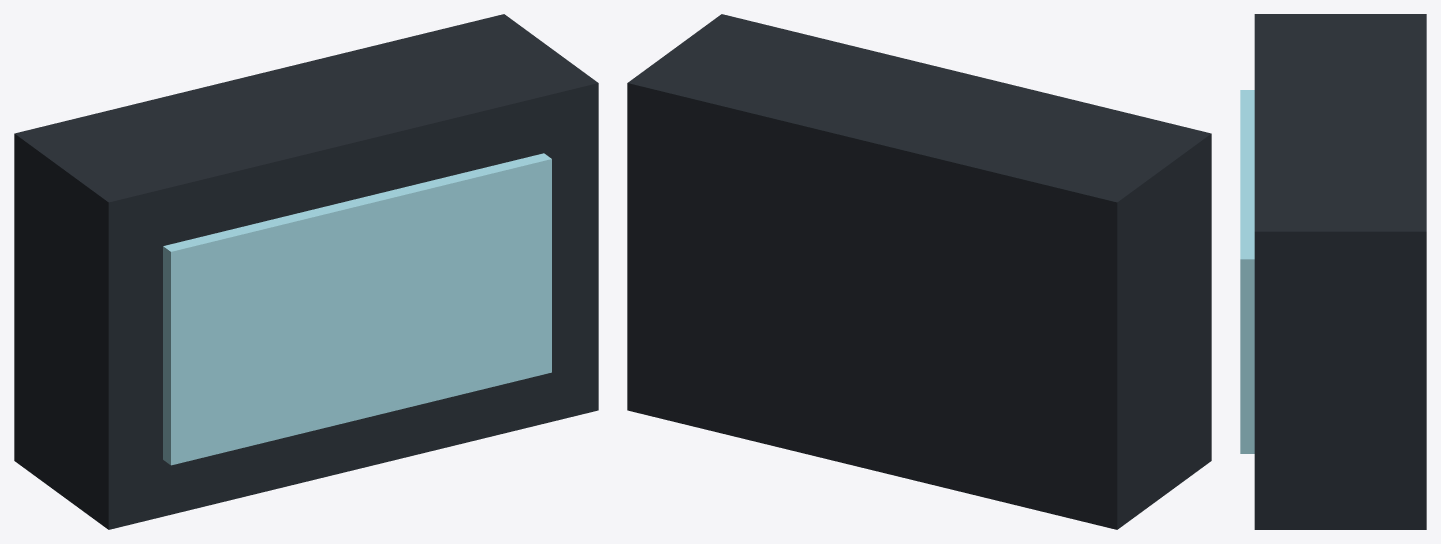
Rendered from panel_meter.glb.
3 renders of one model, left to right at view 1: azimuth 30°, elevation 25°; view 2: azimuth 150°, elevation 25°; view 3: azimuth 270°, elevation 25°, orthographic. The views are drawn at different scales.
Visible parts, largest first — view 1: housing, display; view 2: housing; view 3: housing, display.
Boxes of the visible parts, box(x1,y1,x2,y2) form: housing: box(14, 14, 598, 529); display: box(163, 153, 551, 465); housing: box(627, 14, 1211, 529); housing: box(1254, 14, 1426, 529); display: box(1240, 90, 1254, 453).
Size of the model in its own units: 0.36 by 0.23 by 0.13.
